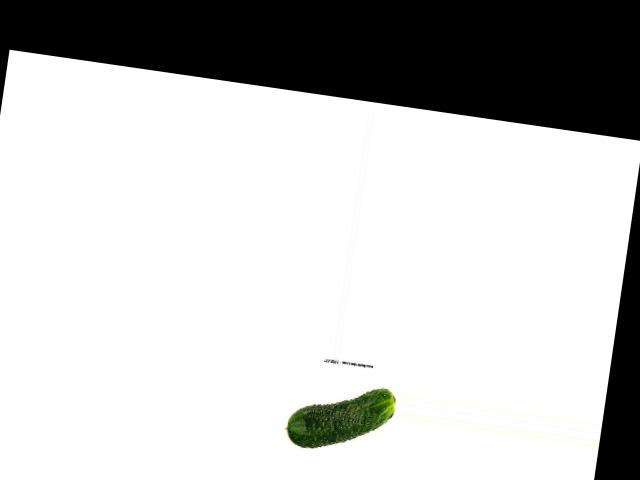cucumber: (283, 375, 397, 459)
